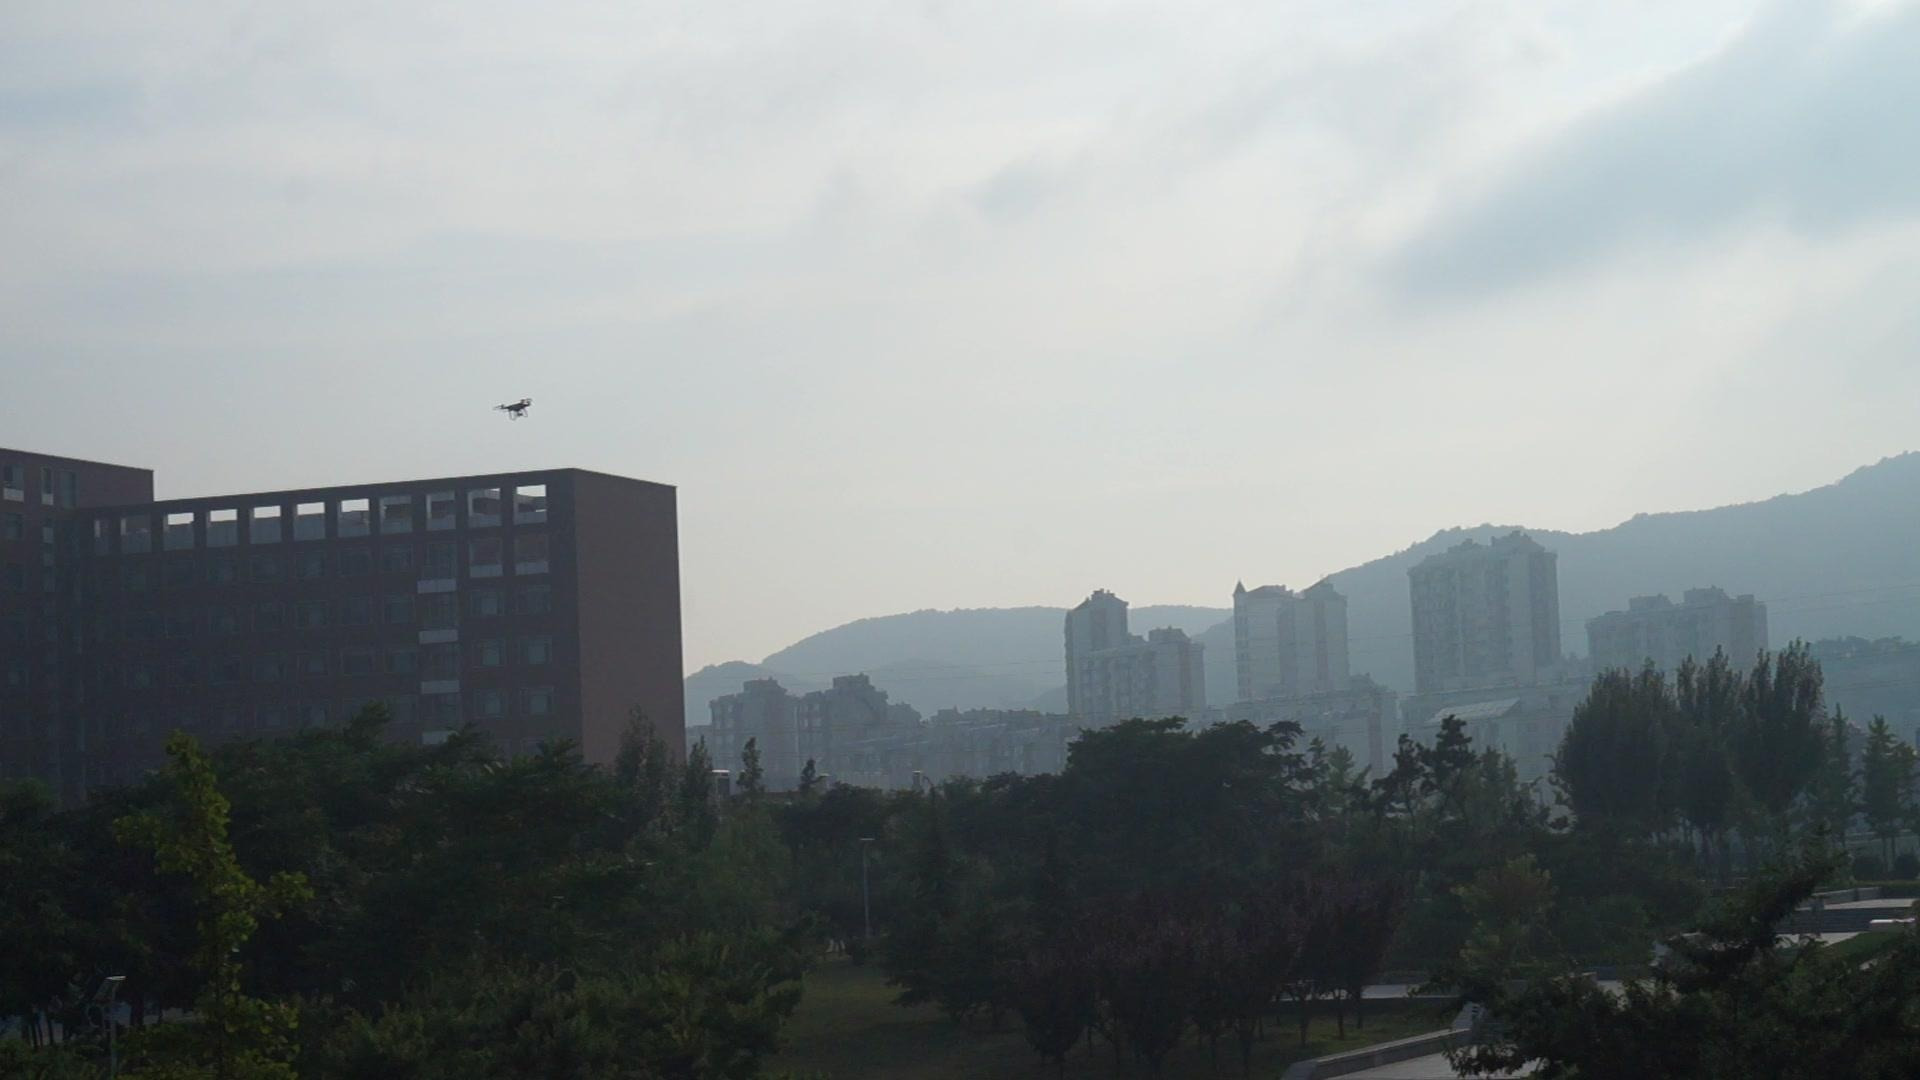UAV: (493, 400, 534, 421)
